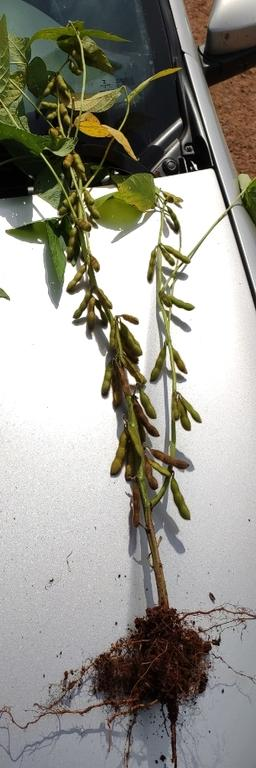pod: (107, 432, 129, 477), (170, 480, 190, 523), (153, 448, 190, 468), (148, 343, 166, 383), (130, 492, 145, 532), (66, 264, 86, 292), (144, 247, 157, 284), (142, 390, 158, 418), (72, 293, 87, 320), (174, 348, 188, 376), (85, 194, 100, 219), (87, 297, 96, 333), (147, 463, 158, 492), (169, 209, 180, 233), (75, 154, 85, 173)
soy: (1, 41, 216, 712)
